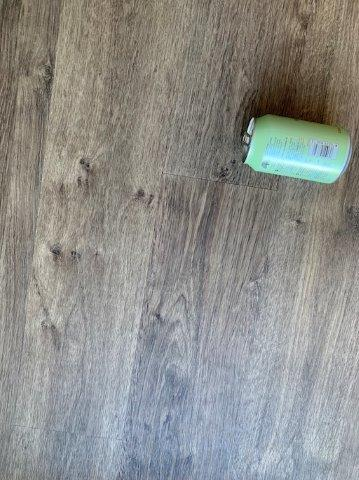kaleng: (241, 115, 351, 182)
